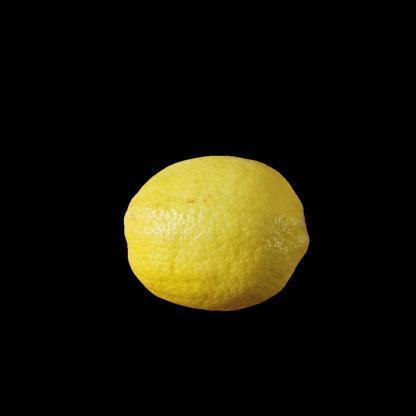lemon: (124, 154, 310, 312)
